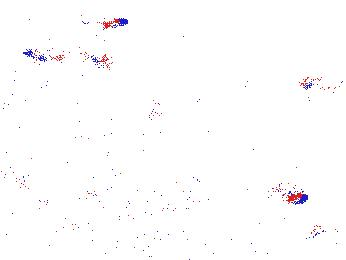red belly glassfish: (276, 179, 308, 206), (82, 14, 127, 31)
redtail glassfish: (23, 43, 107, 71), (297, 74, 346, 94), (308, 220, 346, 243)
